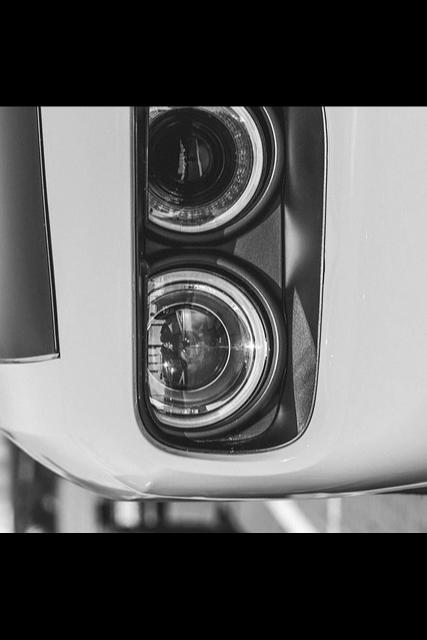Non_Gorille: (0, 106, 427, 531)
